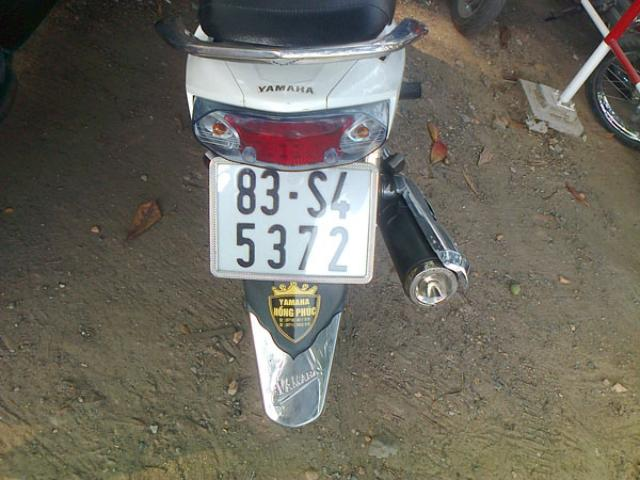plate: (216, 160, 366, 282)
